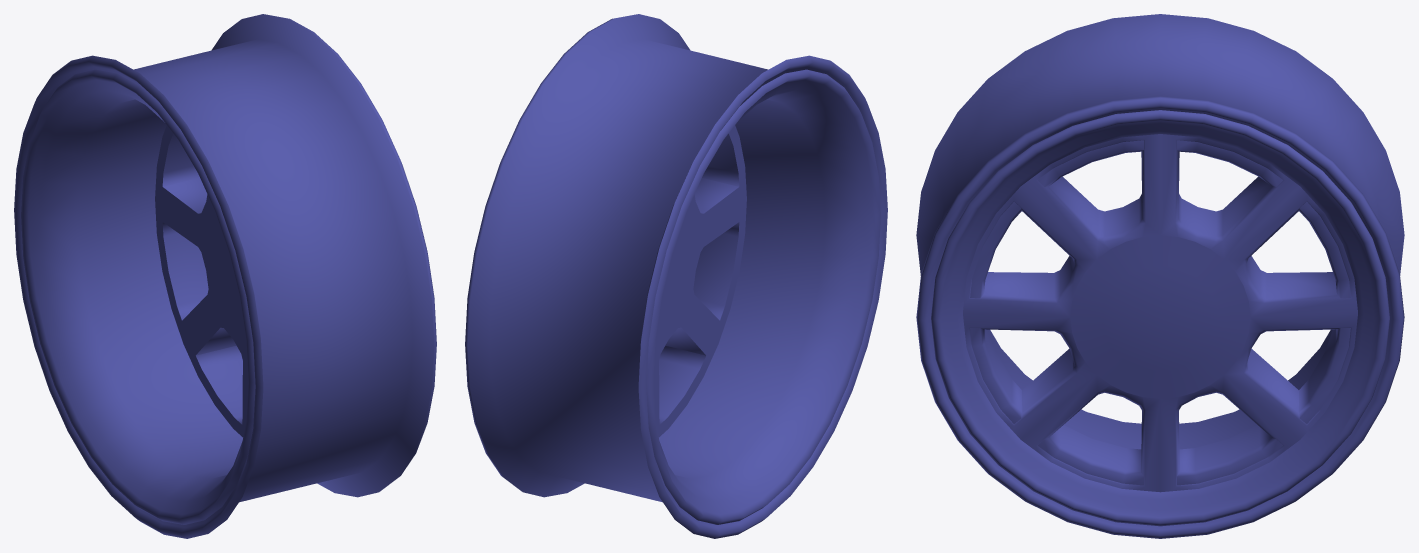
The model's file is daewon_dx8.dae.
3 views of the same model, side by side, from view 1: azimuth 30°, elevation 25°; view 2: azimuth 150°, elevation 25°; view 3: azimuth 270°, elevation 25° (orthographic).
Visible parts, largest first — view 1: daewon_dx8_01a_16x7, daewon_dx8_01a_15x7; view 2: daewon_dx8_01a_16x7, daewon_dx8_01a_15x7; view 3: daewon_dx8_01a_16x7, daewon_dx8_01a_15x7, daewon_dx8_01a_cover.
Part boxes in pixels (<box>): daewon_dx8_01a_16x7: <box>14,14,436,538</box>; daewon_dx8_01a_15x7: <box>21,69,255,524</box>; daewon_dx8_01a_16x7: <box>465,14,887,538</box>; daewon_dx8_01a_15x7: <box>646,69,880,524</box>; daewon_dx8_01a_16x7: <box>916,14,1404,538</box>; daewon_dx8_01a_15x7: <box>931,110,1389,526</box>; daewon_dx8_01a_cover: <box>1070,235,1250,398</box>.
Size of the model in its own units: 0.188 by 0.4404 by 0.4404.
